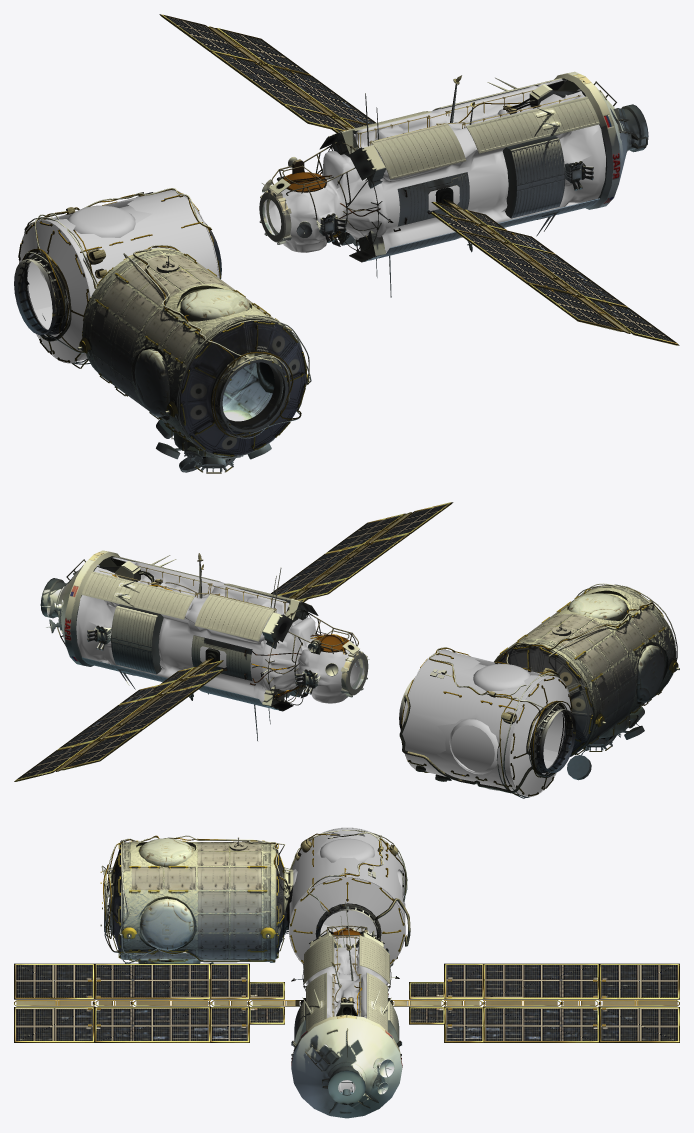
The model's file is ISS_rus_part_b.FBX.
3 renders of one model, top to bottom at view 1: azimuth 30°, elevation 25°; view 2: azimuth 150°, elevation 25°; view 3: azimuth 270°, elevation 25°, orthographic. The views are drawn at different scales.
Parts seen in each view (by area): view 1: iss_destinybody_b, ISS_zaryaCloth_low, Iss_zarya_panels, ISS_zarya_dets, unityBody, Box101, iss_destiny_dets, iss_rama_a, unityHandles, iss_Cupol1, iss_zarya_perila; view 2: unityBody, ISS_zaryaCloth_low, iss_destinybody_b, Iss_zarya_panels, ISS_zarya_dets, Box101, unityHandles, iss_destiny_dets, iss_rama_a, iss_Cupol1, iss_zarya_perila; view 3: Box101, iss_destinybody_b, ISS_zarya_dets, iss_rama_a, unityBody, iss_destiny_dets, Iss_zarya_panels, ISS_zaryaCloth_low, unityHandles.
Boxes of the visible parts, box(x1,y1,x2,y2) form: iss_destinybody_b: box(82, 248, 306, 455); ISS_zaryaCloth_low: box(264, 79, 605, 252); Iss_zarya_panels: box(352, 78, 599, 258); ISS_zarya_dets: box(259, 71, 648, 297); unityBody: box(19, 189, 219, 363); Box101: box(166, 16, 673, 342); iss_destiny_dets: box(77, 245, 311, 459); iss_rama_a: box(159, 14, 679, 345); unityHandles: box(14, 188, 221, 368); iss_Cupol1: box(156, 419, 271, 473); iss_zarya_perila: box(357, 75, 580, 252); unityBody: box(402, 649, 571, 796); ISS_zaryaCloth_low: box(76, 557, 364, 703); iss_destinybody_b: box(494, 585, 674, 756); Iss_zarya_panels: box(81, 556, 291, 707); ISS_zarya_dets: box(40, 550, 369, 740); Box101: box(19, 504, 447, 778); unityHandles: box(399, 647, 575, 798); iss_destiny_dets: box(495, 583, 679, 755); iss_rama_a: box(14, 502, 453, 781); iss_Cupol1: box(567, 706, 644, 780); iss_zarya_perila: box(99, 553, 286, 700); Box101: box(15, 965, 678, 1040); iss_destinybody_b: box(114, 842, 283, 960); ISS_zarya_dets: box(291, 902, 402, 1118); iss_rama_a: box(14, 963, 679, 1042); unityBody: box(289, 827, 405, 965); iss_destiny_dets: box(100, 835, 293, 963); Iss_zarya_panels: box(294, 935, 399, 1048); ISS_zaryaCloth_low: box(305, 936, 388, 1092); unityHandles: box(289, 830, 410, 966).
Bounding box in the file's own units: 82455 × 32520 × 98329.
